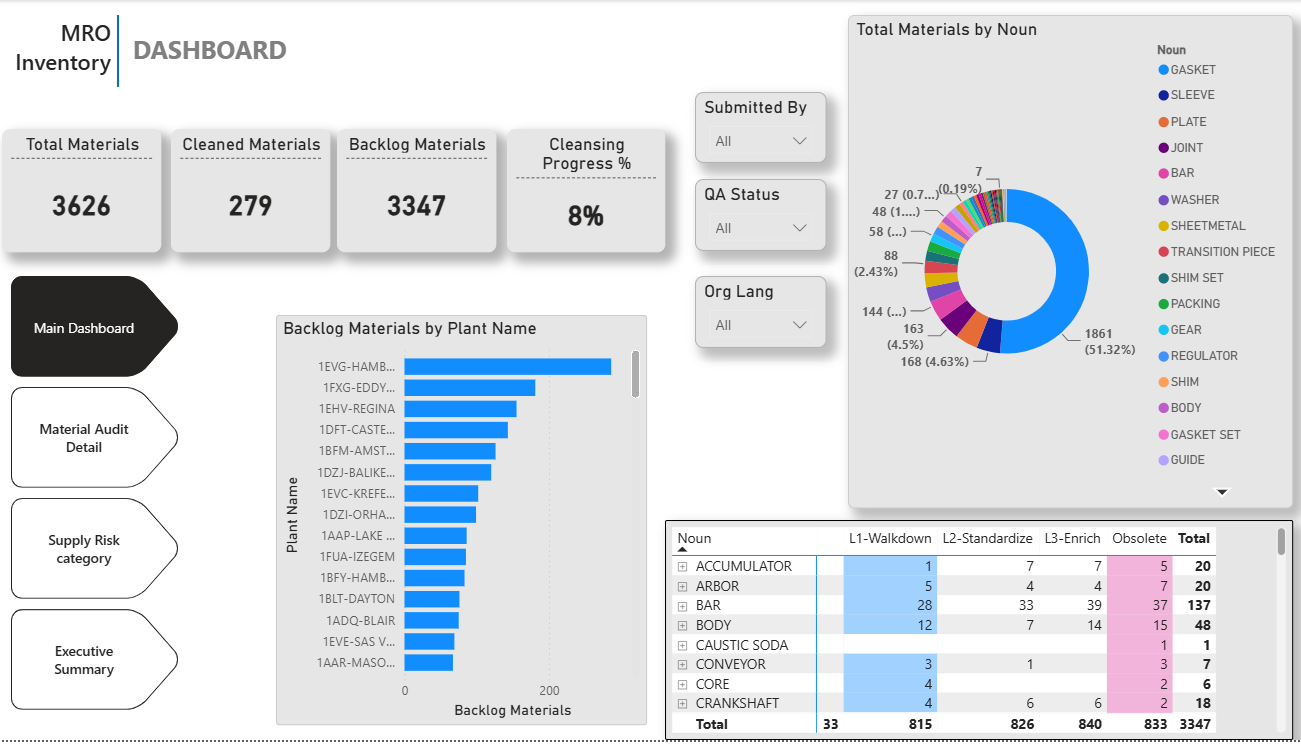

This screenshot's page, from the dashboard's own definition file:
{"tool":"powerbi","page":{"name":"Main Dashboard","canvas":[1280,720],"ordinal":0},"visuals":[{"type":"card","fields":{"Values":["Measure.Total Materials"]},"box":[11.7,0,165.3,140.1],"z":0},{"type":"card","fields":{"Values":["Measure.Cleaned Materials"]},"box":[193.6,0,165.3,140.1],"z":1000},{"type":"card","fields":{"Values":["Measure.Backlog Materials"]},"box":[383.2,0,165.3,140.1],"z":2000},{"type":"card","fields":{"Values":["Measure.Cleansing Progress %"]},"box":[574.8,0,165.3,140.1],"z":3000},{"type":"clusteredBarChart","fields":{"Category":["Dim_Plant.Plant_Name"],"Y":["Measure.Backlog Materials"]},"box":[81.7,151.7,301.5,243.2],"z":4000},{"type":"donutChart","fields":{"Category":["Dim_Material_Master.Noun"],"Y":["Measure.Total Materials"]},"box":[486.3,137.1,716.8,303.5],"z":4001},{"type":"pivotTable","fields":{"Rows":["Dim_Material_Master.Noun","Dim_Material_Master.Org_Material_No"],"Columns":["Dim_Submission_Audit.Action_Level"],"Values":["Measure.Backlog Materials"]},"box":[64.2,440.6,552.5,279.1],"z":4002},{"type":"slicer","fields":{"Values":["Dim_Submission_Audit.Submitted_By"]},"box":[759.6,11.7,151.7,95.3],"z":4003},{"type":"slicer","fields":{"Values":["Dim_Submission_Audit.QA_Status"]},"box":[941.5,11.7,151.7,95.3],"z":4004},{"type":"slicer","fields":{"Values":["Dim_Material_Master.Orig_Lang"]},"box":[1116.6,11.7,151.7,95.3],"z":4005},{"type":"slicer","fields":{"Values":["Vw_Procurement_Risk_Analysis.Supply_Risk_Category"]},"box":[657.5,447.4,535.9,266.5],"z":4006}]}

Visuals, with their boxes in screenshot pixels (x1, y1, x2, y2), scaled from the page's 1280x720 canvas onto the 1301x752 screenshot:
card - Measure.Total Materials: locate(12, 0, 180, 146)
card - Measure.Cleaned Materials: locate(197, 0, 365, 146)
card - Measure.Backlog Materials: locate(389, 0, 557, 146)
card - Measure.Cleansing Progress %: locate(584, 0, 752, 146)
clusteredBarChart - Dim_Plant.Plant_Name x Measure.Backlog Materials: locate(83, 158, 389, 412)
donutChart - Dim_Material_Master.Noun x Measure.Total Materials: locate(494, 143, 1223, 460)
pivotTable - Dim_Material_Master.Noun x Dim_Material_Master.Org_Material_No: locate(65, 460, 627, 751)
slicer - Dim_Submission_Audit.Submitted_By: locate(772, 12, 926, 112)
slicer - Dim_Submission_Audit.QA_Status: locate(957, 12, 1111, 112)
slicer - Dim_Material_Master.Orig_Lang: locate(1135, 12, 1289, 112)
slicer - Vw_Procurement_Risk_Analysis.Supply_Risk_Category: locate(668, 467, 1213, 746)
